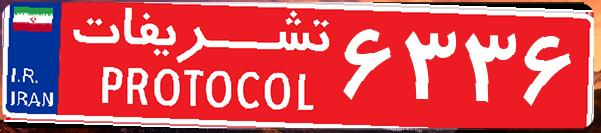3: (400, 20, 460, 115), (460, 20, 520, 115)
6: (340, 20, 400, 115), (520, 20, 580, 115)
تشریفات: (60, 8, 340, 125)
